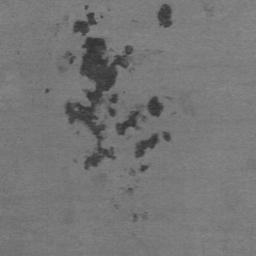Iron scale compression: (66, 38, 132, 171), (115, 111, 146, 136), (135, 134, 159, 158), (73, 13, 97, 36), (157, 5, 172, 28), (148, 97, 163, 117), (108, 94, 118, 117), (68, 55, 76, 65), (163, 132, 171, 141), (140, 165, 150, 172)
